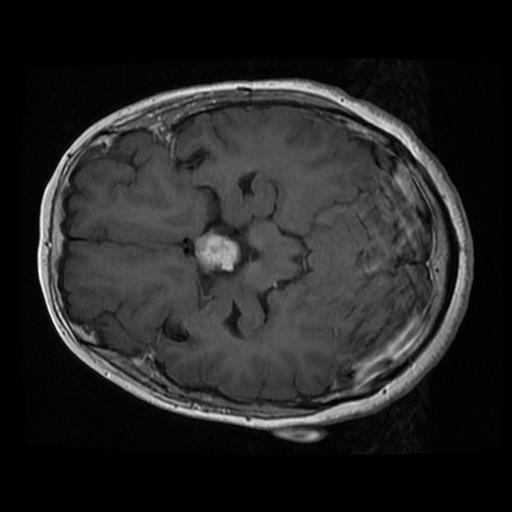pituitary tumour: (193, 232, 240, 270)
